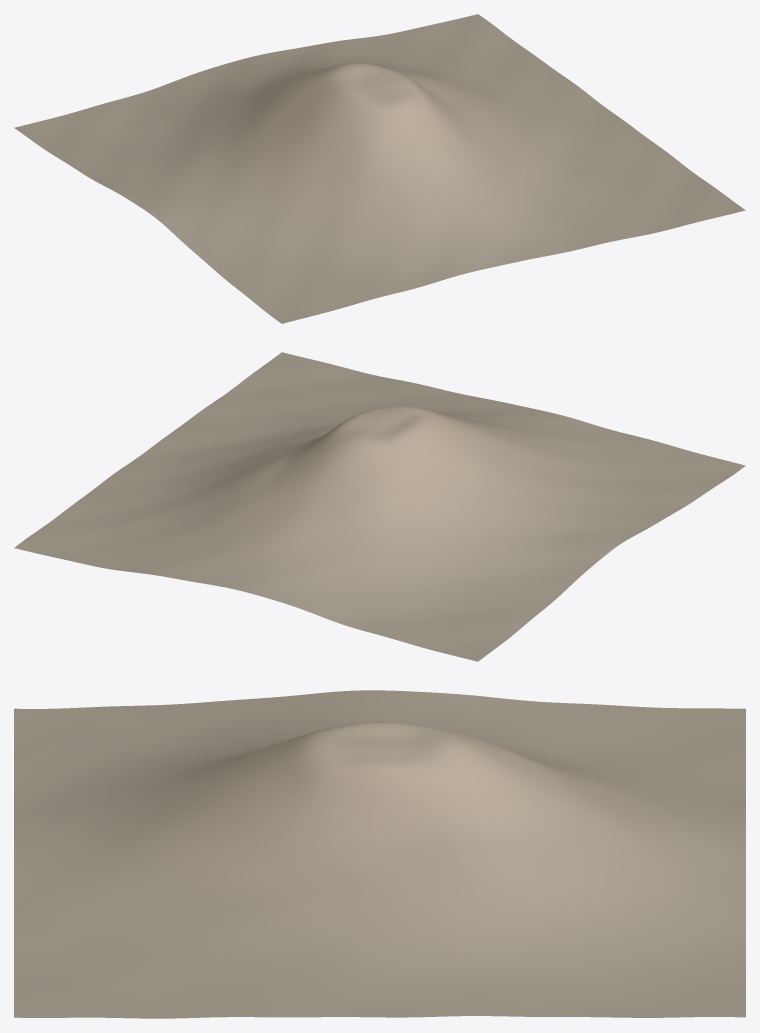
The model's file is terrain.glb.
The picture shows the model from 3 angles, top to bottom: view 1: azimuth 30°, elevation 25°; view 2: azimuth 150°, elevation 25°; view 3: azimuth 270°, elevation 25°; orthographic projection. The views are drawn at different scales.
Parts seen in each view (by area): view 1: world; view 2: world; view 3: world.
Part boxes in pixels (x1,y1,x2,y2): world: (14,14,745,323); world: (14,352,745,661); world: (14,690,745,1018).
Size of the model in its own units: 900 by 162 by 900.
